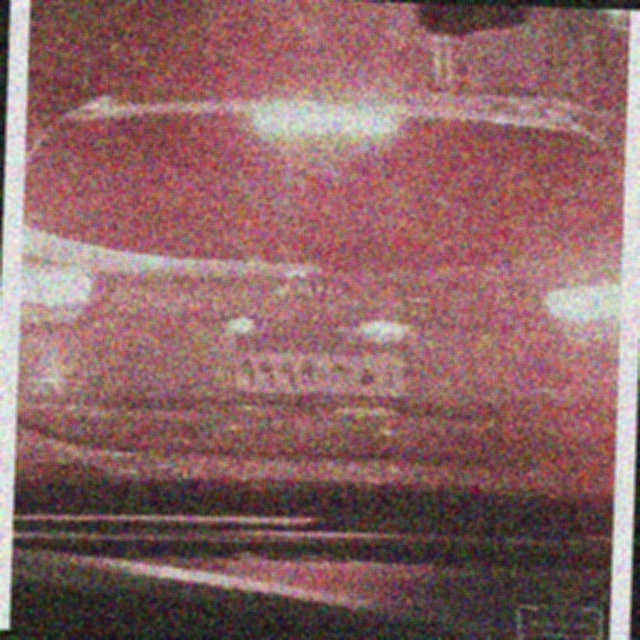License Plate: (229, 325, 411, 402)
